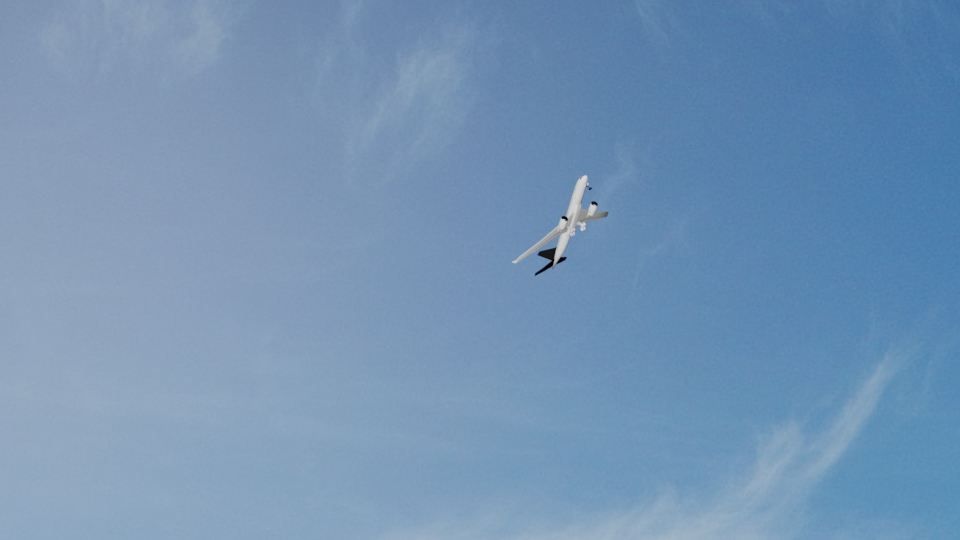plane: (512, 173, 611, 271)
